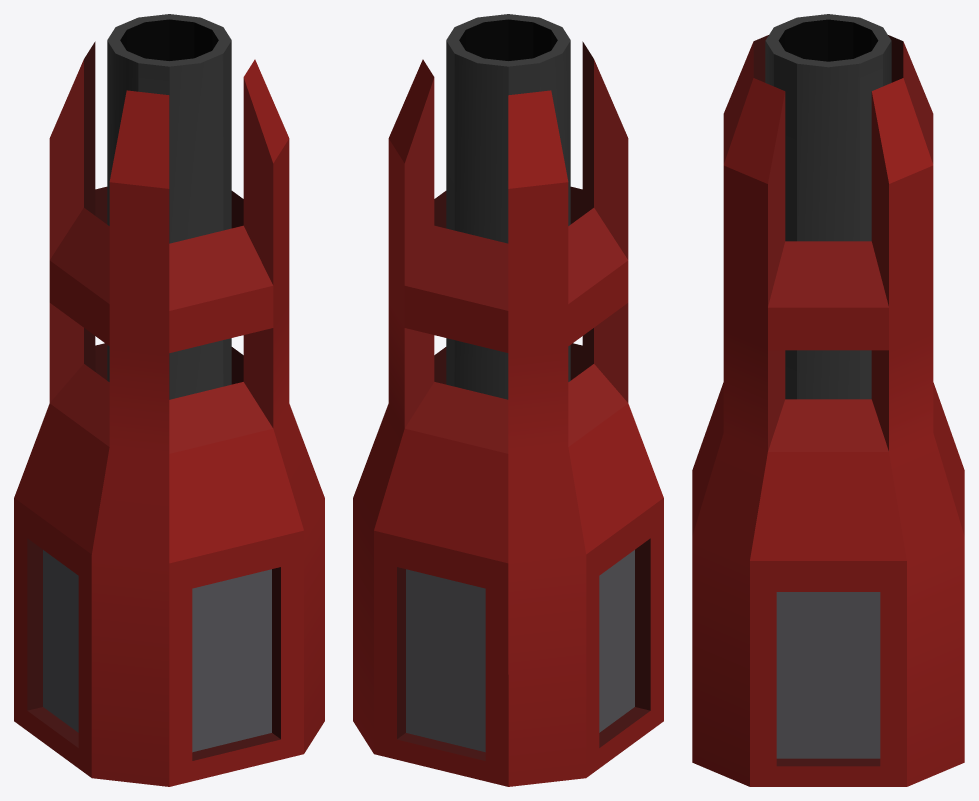
Rendered from Old_Msh_Barrel_A.FBX.
3 views of the same model, side by side, from view 1: azimuth 30°, elevation 25°; view 2: azimuth 150°, elevation 25°; view 3: azimuth 270°, elevation 25° (orthographic).
Parts seen in each view (by area): view 1: Msh_Barrel_A; view 2: Msh_Barrel_A; view 3: Msh_Barrel_A.
Boxes of the visible parts, x1,y1,x2,y2 form: Msh_Barrel_A: (14,14,324,786); Msh_Barrel_A: (353,14,663,786); Msh_Barrel_A: (692,14,964,786).
Bounding box in the file's own units: 1.79 × 5 × 1.79.
1 material, 1 textured.
